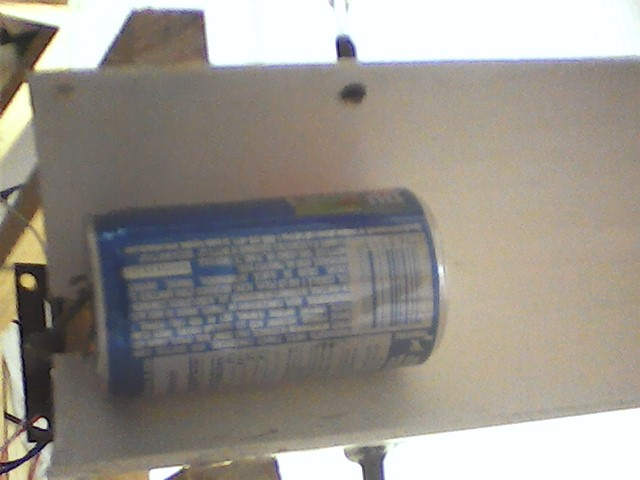lata: (73, 185, 454, 405)
